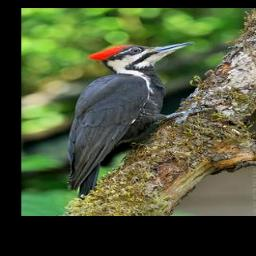Woodpecker: (54, 40, 213, 201)
